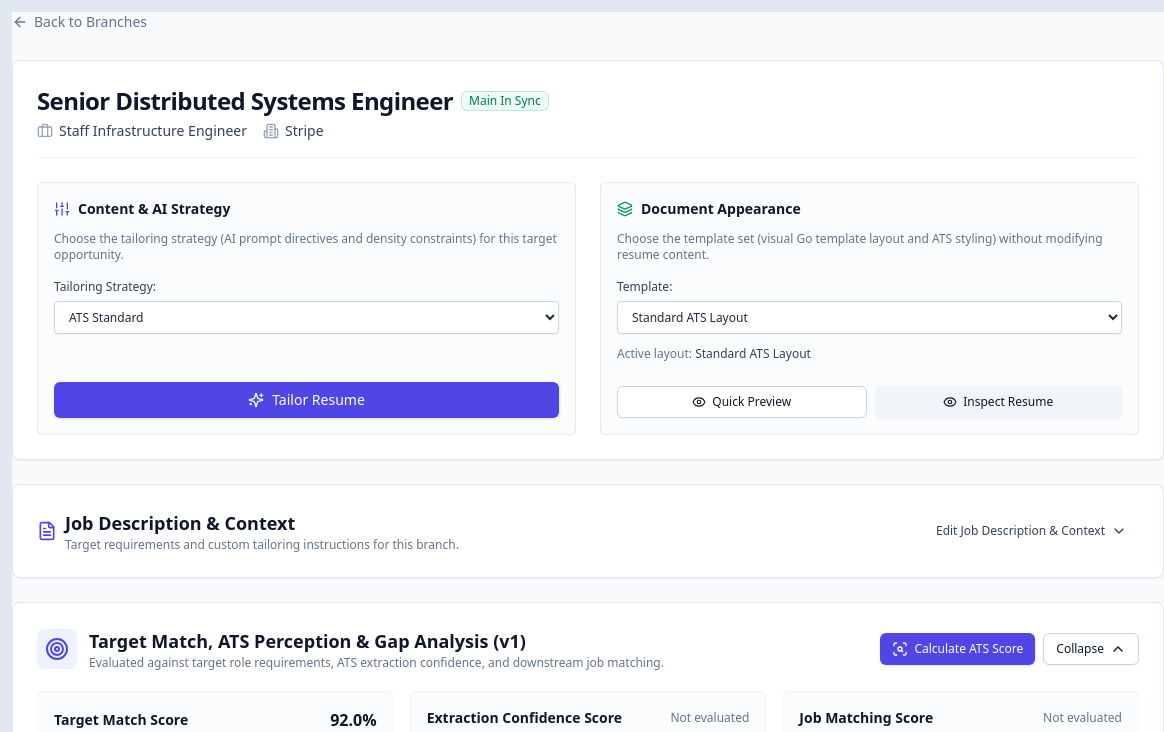
BranchWorkbenchPage › handles tailoring mutation, polling transitions, and completion notifications
Click the button "Tailor Resume" at (306, 400), box [54,382,559,418]
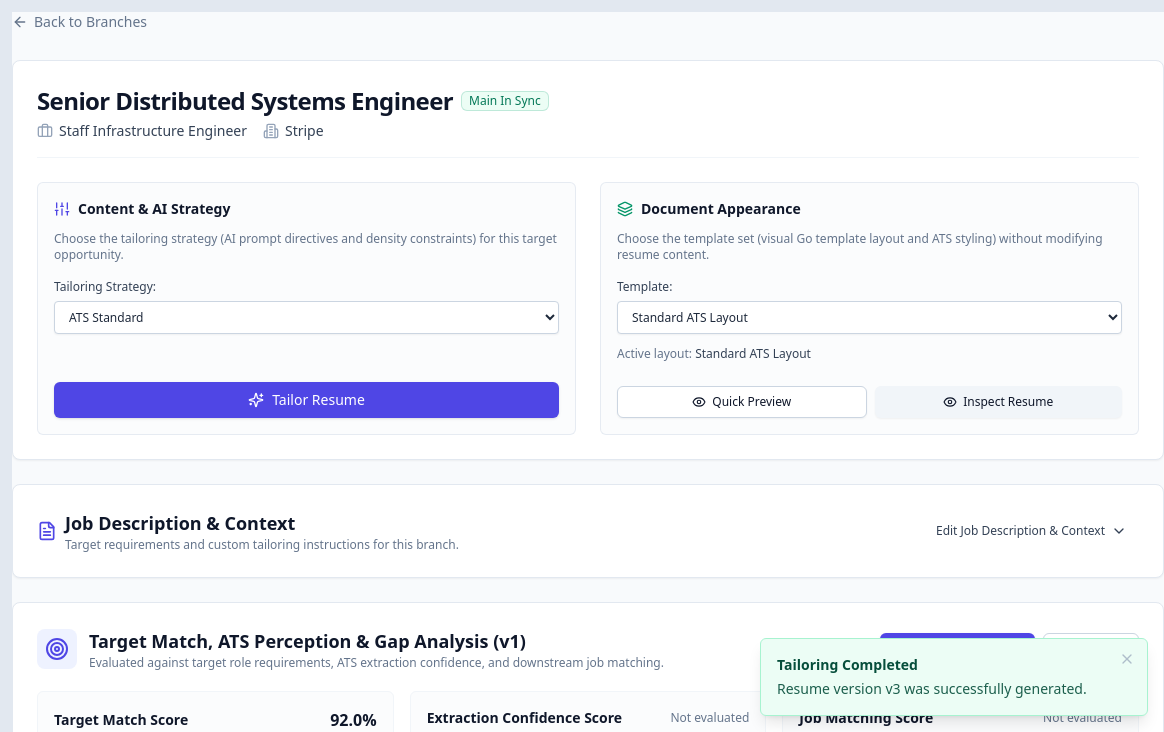
Expected: the text "Tailoring Completed" is shown, [777,655,918,674]
Expected: the text "Resume version v3 was successfully generated." is shown, [777,679,1087,699]
